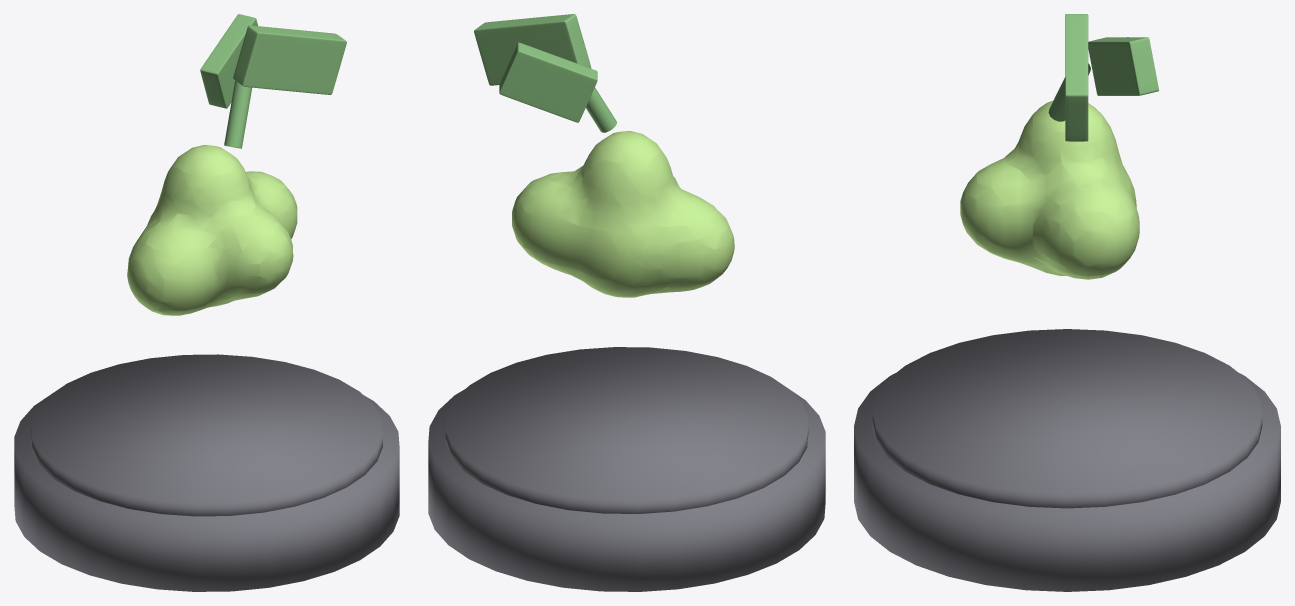
The model's file is Wasabi.glb.
The picture shows the model from 3 angles, left to right: view 1: azimuth 30°, elevation 25°; view 2: azimuth 150°, elevation 25°; view 3: azimuth 270°, elevation 25°; orthographic projection. The views are drawn at different scales.
Parts seen in each view (by area): view 1: Wasabi_rim, Wasabi_pedestal, Wasabi_mound, Wasabi_leaf1, Wasabi_leaf2, Wasabi_stem; view 2: Wasabi_rim, Wasabi_pedestal, Wasabi_mound, Wasabi_leaf2, Wasabi_leaf1, Wasabi_stem; view 3: Wasabi_rim, Wasabi_pedestal, Wasabi_mound, Wasabi_leaf2, Wasabi_leaf1.
Part boxes in pixels (<box>): Wasabi_rim: <box>31,354,382,516</box>; Wasabi_pedestal: <box>14,395,399,591</box>; Wasabi_mound: <box>127,145,297,315</box>; Wasabi_leaf1: <box>233,25,346,94</box>; Wasabi_leaf2: <box>200,14,258,108</box>; Wasabi_stem: <box>224,80,251,148</box>; Wasabi_rim: <box>445,347,808,513</box>; Wasabi_pedestal: <box>428,389,825,591</box>; Wasabi_mound: <box>512,131,734,297</box>; Wasabi_leaf2: <box>499,42,597,122</box>; Wasabi_leaf1: <box>474,14,591,85</box>; Wasabi_stem: <box>586,87,616,132</box>; Wasabi_rim: <box>872,329,1262,508</box>; Wasabi_pedestal: <box>854,373,1280,591</box>; Wasabi_mound: <box>960,100,1139,279</box>; Wasabi_leaf2: <box>1088,37,1158,95</box>; Wasabi_leaf1: <box>1065,14,1088,141</box>.
Bounding box in the file's own units: 0.92 × 1.22 × 0.92.
